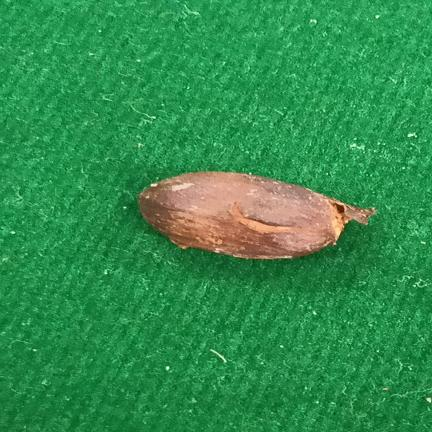husk: (139, 172, 375, 259)
